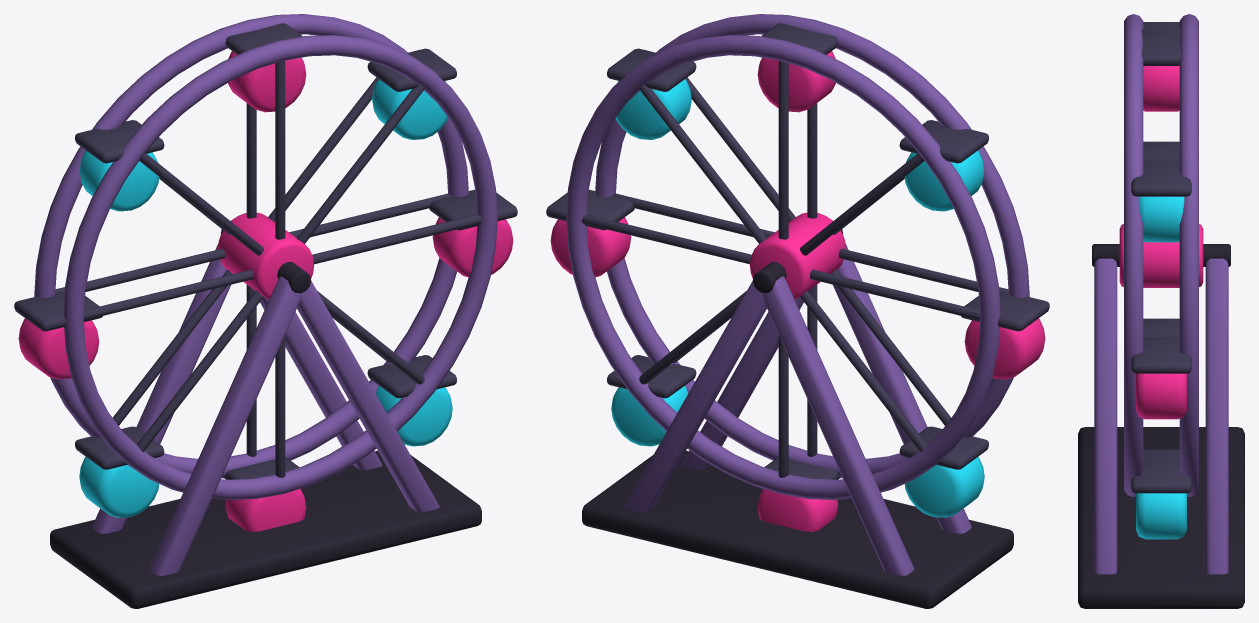
The model's file is Festival_FerrisWheel.fbx.
3 views of the same model, side by side, from view 1: azimuth 30°, elevation 25°; view 2: azimuth 150°, elevation 25°; view 3: azimuth 270°, elevation 25° (orthographic). The views are drawn at different scales.
Visible parts, largest first — view 1: Purple, Body, Dark, Neon_Cyan, Neon_Magenta, Magenta; view 2: Purple, Body, Dark, Neon_Cyan, Neon_Magenta, Magenta; view 3: Purple, Dark, Body, Neon_Cyan, Neon_Magenta, Magenta.
Boxes of the visible parts, x1,y1,x2,y2 form: Purple: [34, 14, 497, 575]; Body: [14, 23, 517, 479]; Dark: [50, 229, 481, 608]; Neon_Cyan: [79, 79, 452, 517]; Neon_Magenta: [18, 51, 513, 531]; Magenta: [218, 212, 313, 299]; Purple: [566, 14, 1029, 575]; Body: [546, 23, 1049, 479]; Dark: [582, 229, 1013, 608]; Neon_Cyan: [611, 79, 984, 517]; Neon_Magenta: [550, 51, 1045, 531]; Magenta: [750, 212, 845, 299]; Purple: [1094, 14, 1228, 574]; Dark: [1078, 244, 1244, 608]; Body: [1131, 22, 1191, 493]; Neon_Cyan: [1136, 196, 1186, 539]; Neon_Magenta: [1136, 66, 1186, 419]; Magenta: [1119, 224, 1203, 287].
Size of the model in its own units: 34.5 by 35.37 by 10.8.
